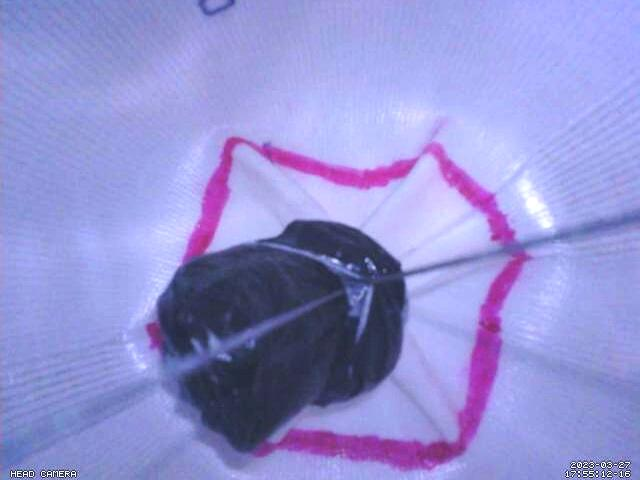red-circle: (147, 135, 534, 471)
